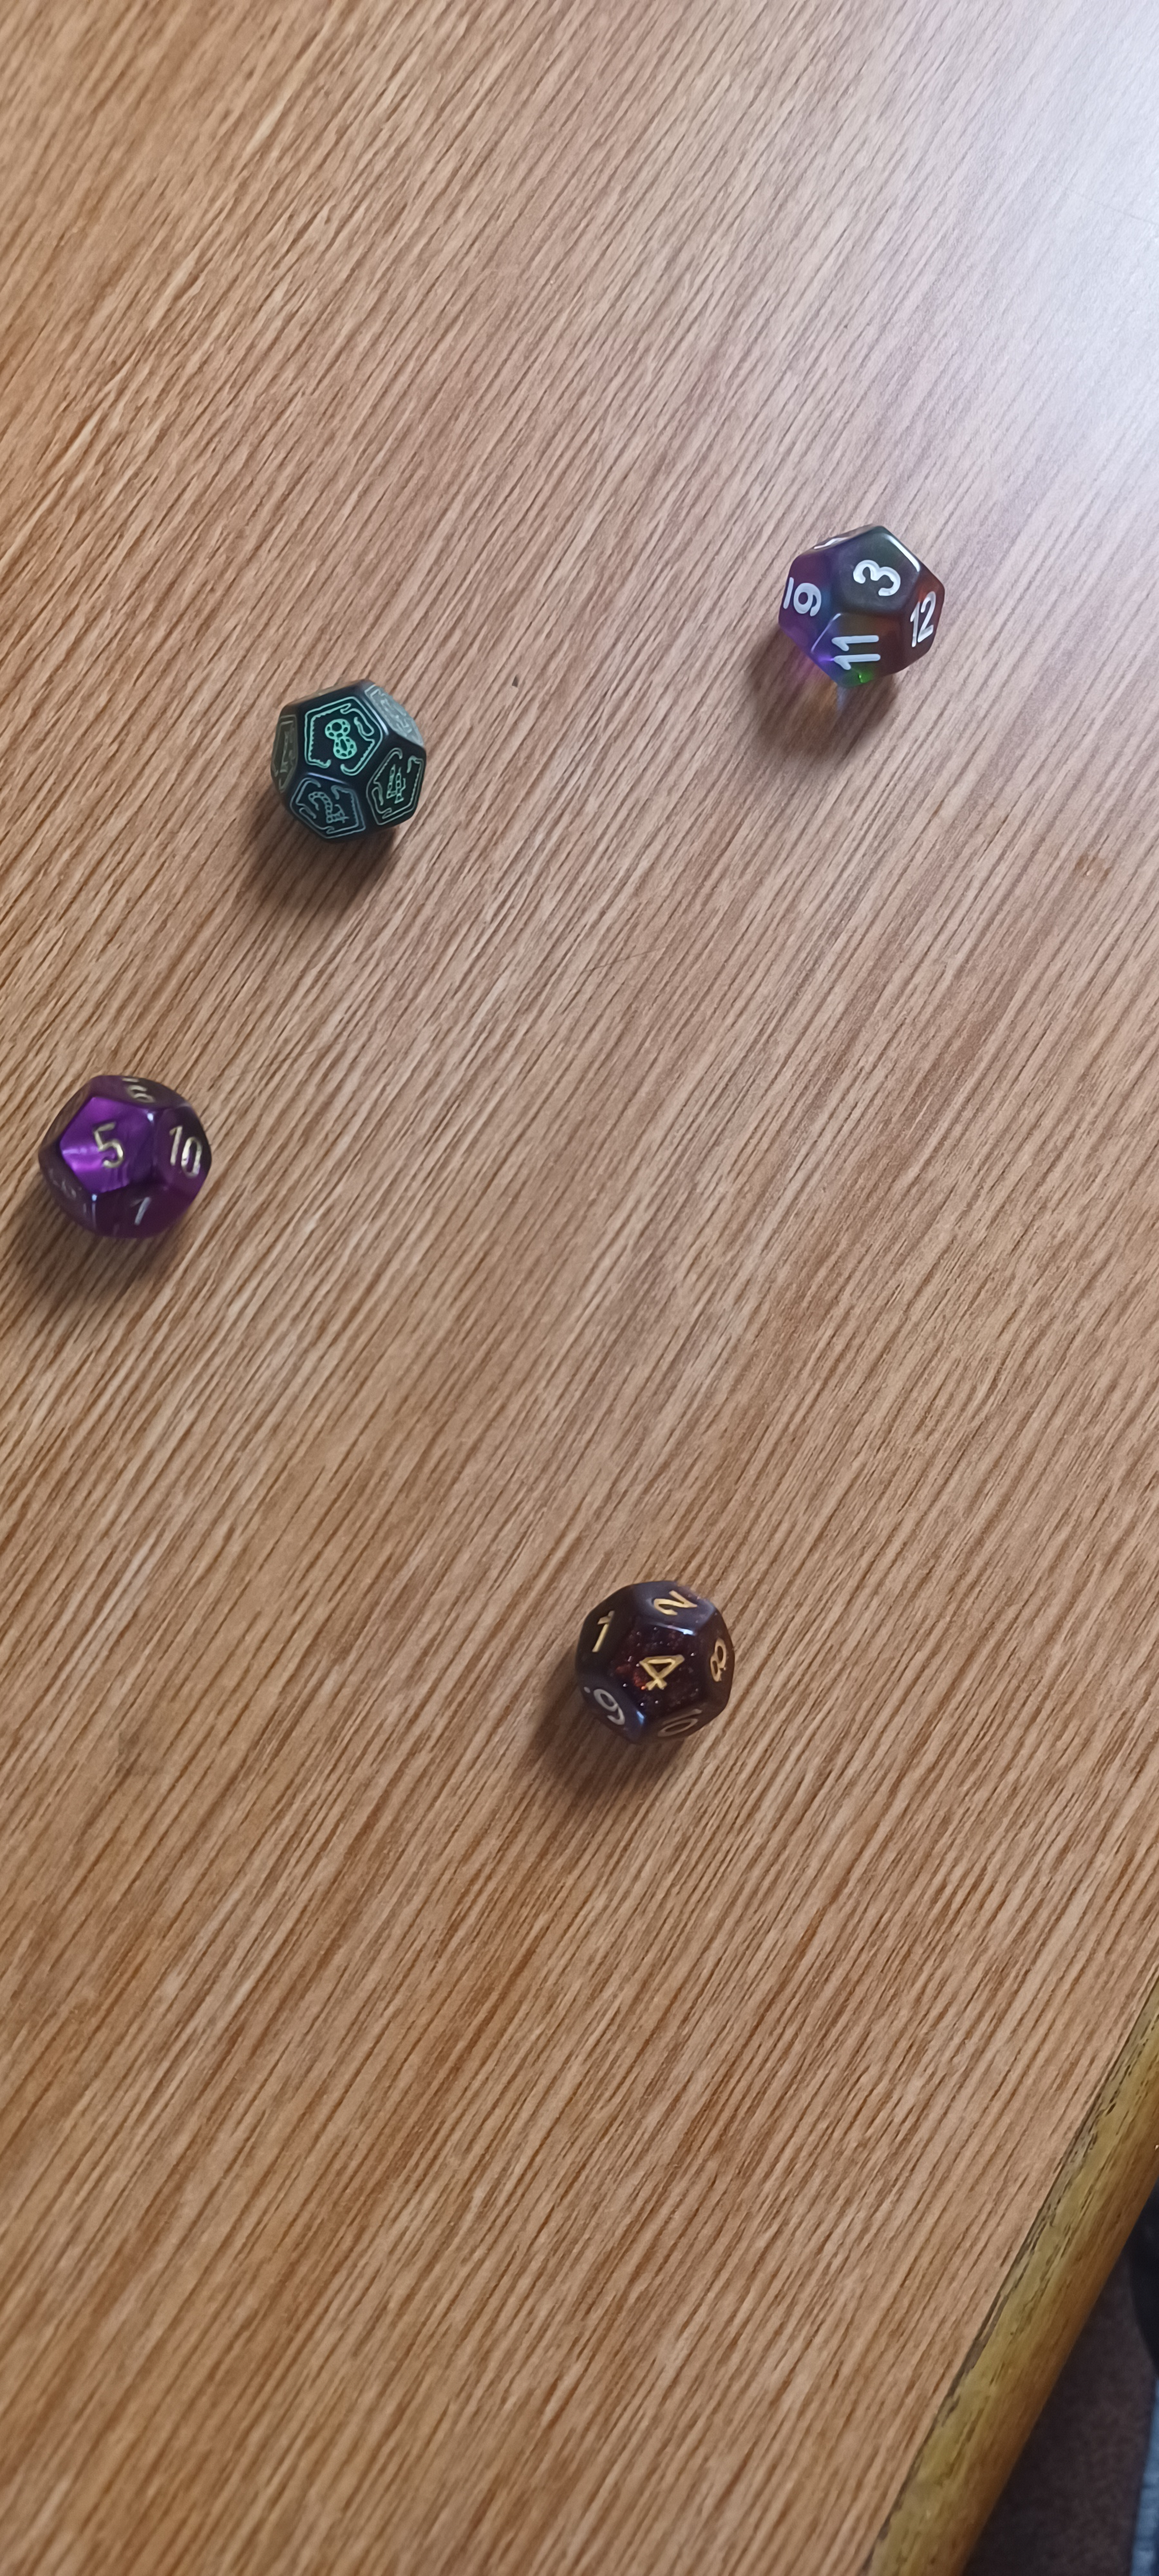eight: (212, 644, 491, 882)
five: (26, 1042, 248, 1265)
four: (525, 1548, 780, 1782)
three: (740, 483, 995, 721)
